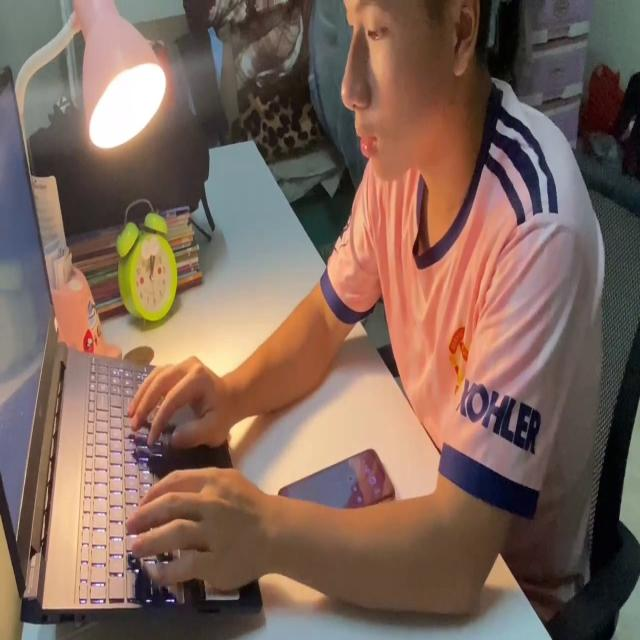laptop: (0, 60, 270, 632)
phone: (275, 434, 398, 516)
student: (126, 0, 619, 624)
